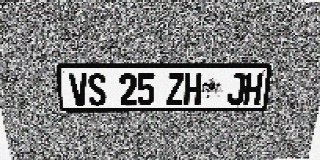2: (119, 73, 137, 105)
5: (137, 73, 155, 105)
H: (243, 73, 263, 104), (184, 73, 202, 105)
J: (227, 73, 246, 105)
S: (87, 73, 107, 106)
V: (69, 73, 89, 106)
Z: (167, 73, 184, 105)
